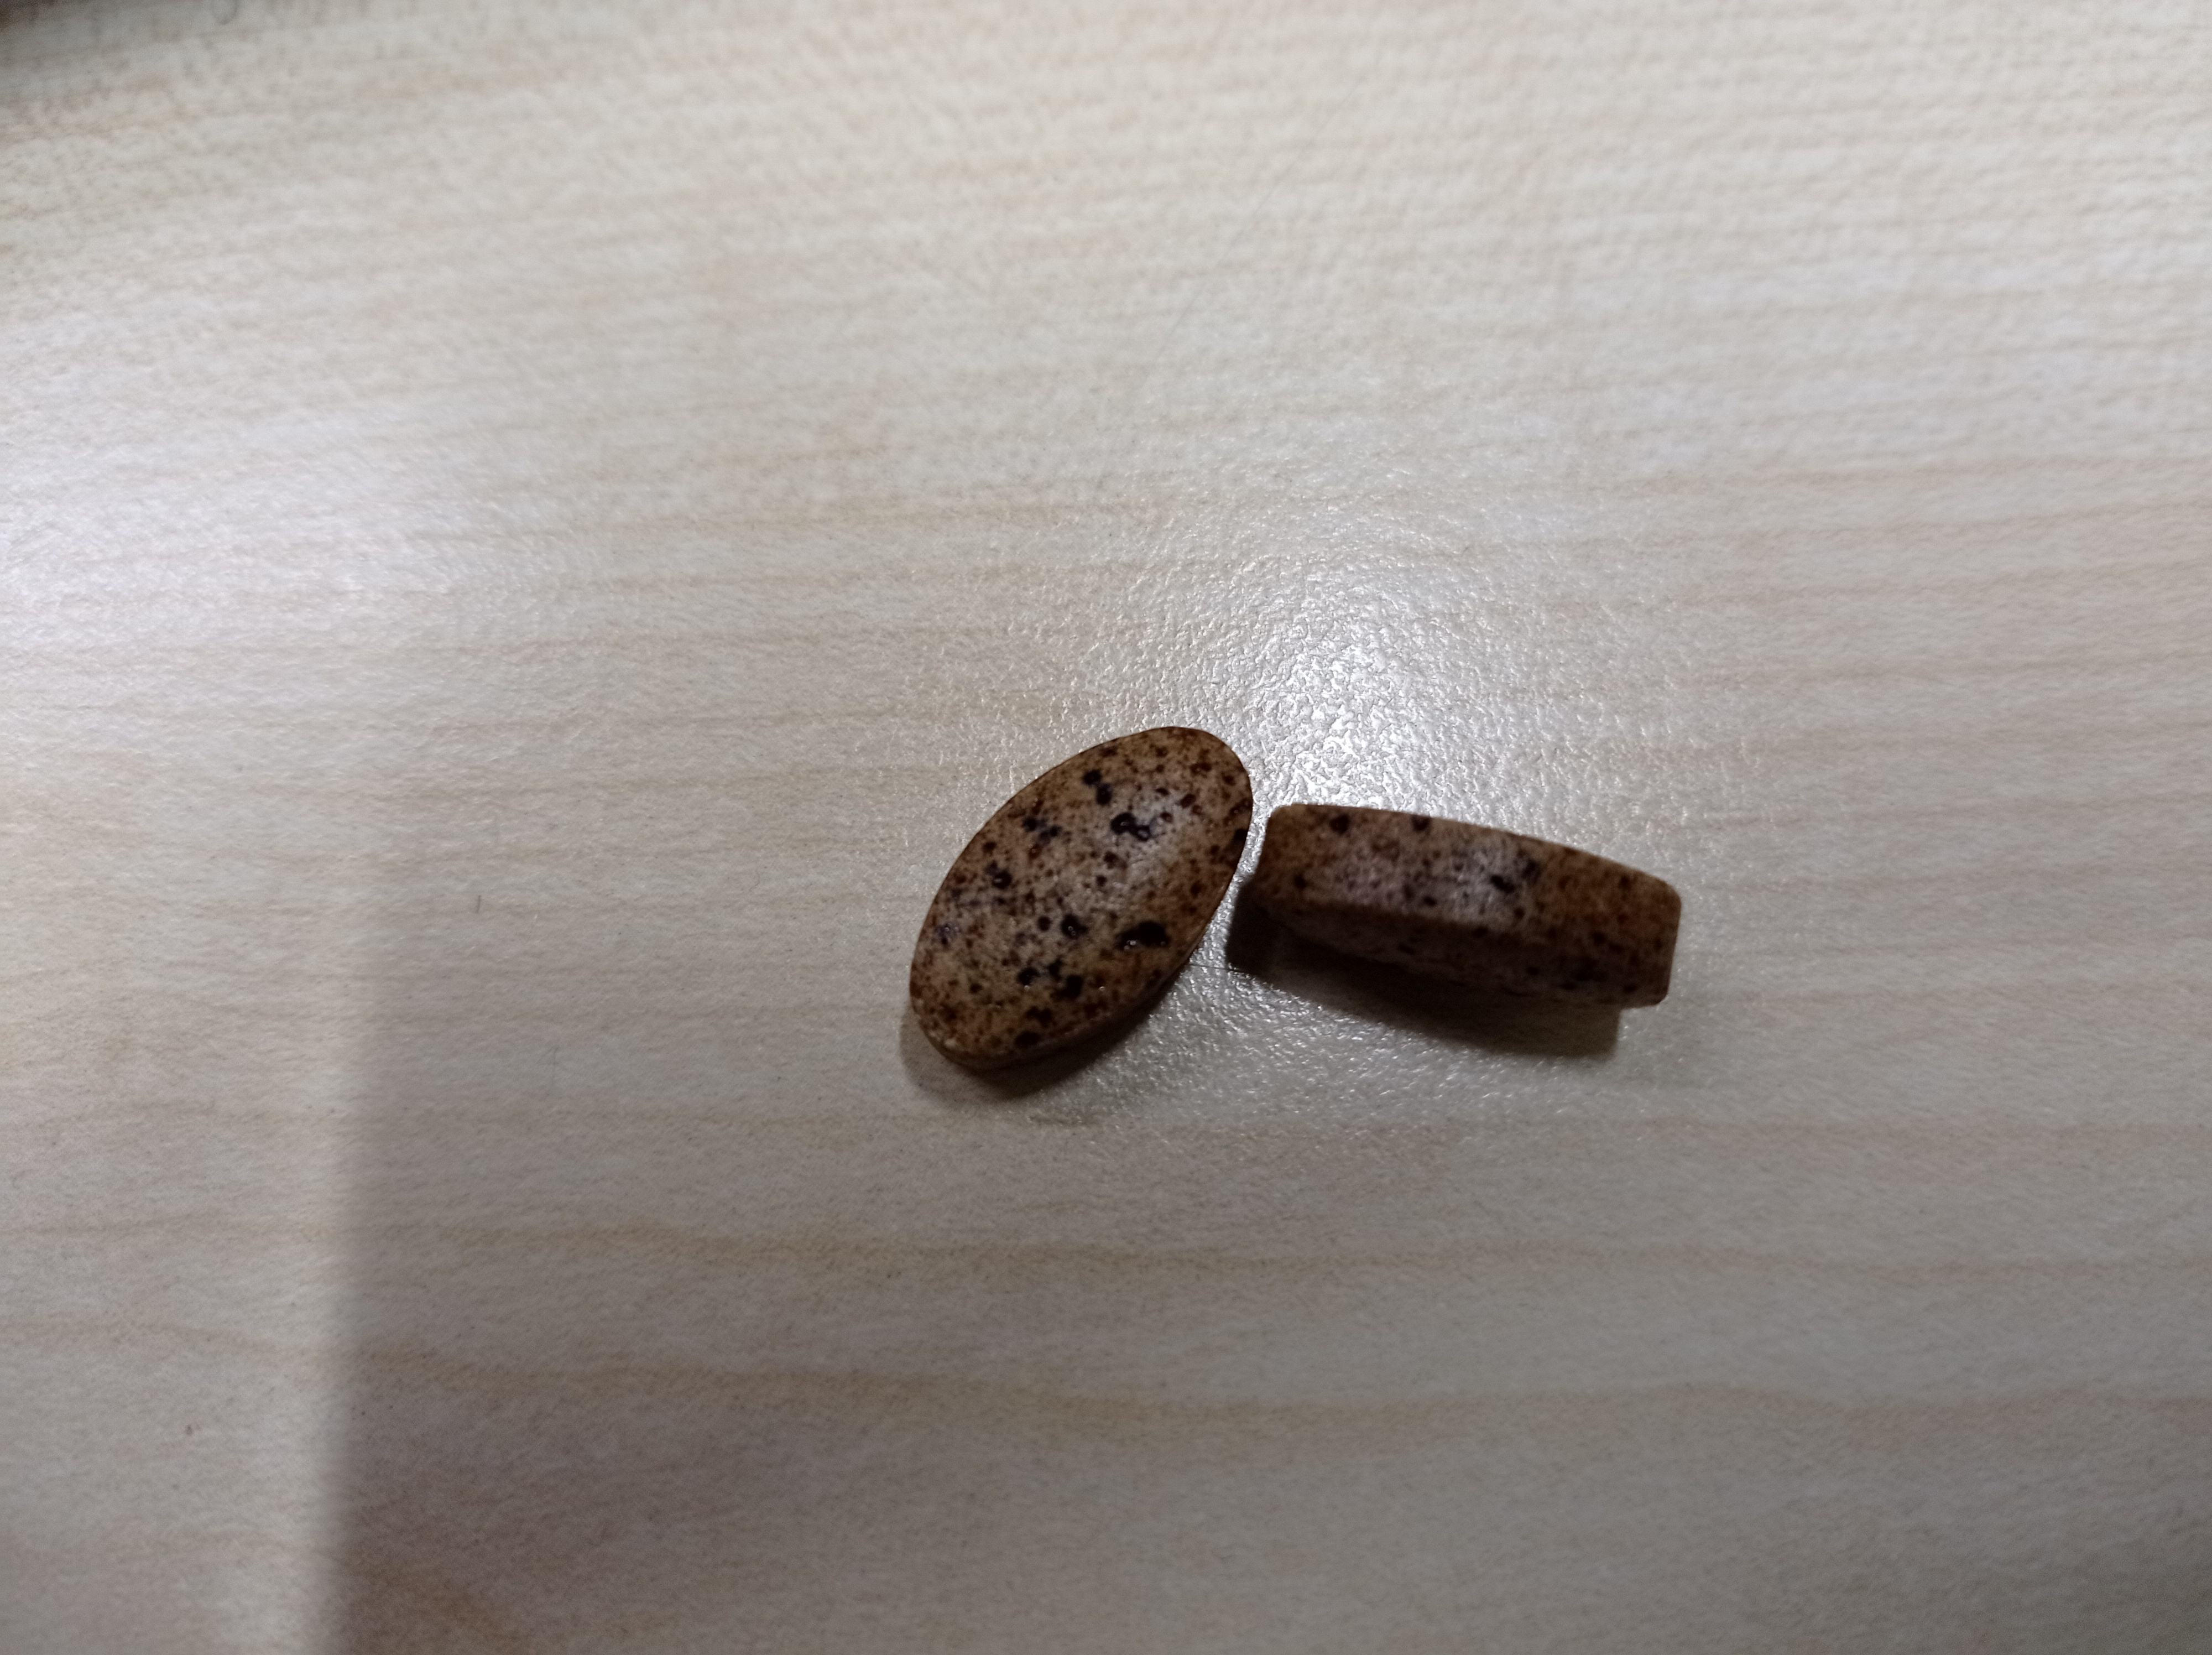brown_medicine: (909, 725, 1249, 1102), (1258, 801, 1682, 1000)
